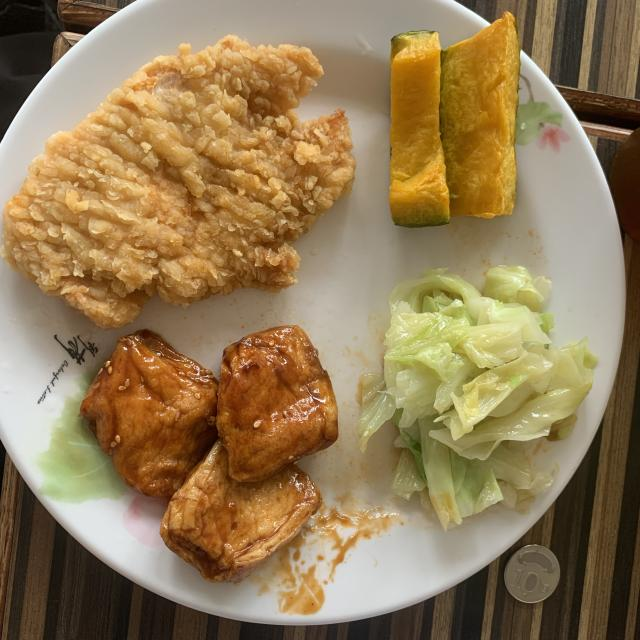cabbage: (359, 266, 596, 529)
coin: (504, 545, 560, 604)
creamy tofu: (80, 326, 338, 581)
fried chicken cutlet: (2, 35, 355, 328)
pumpkin: (389, 12, 520, 228)
